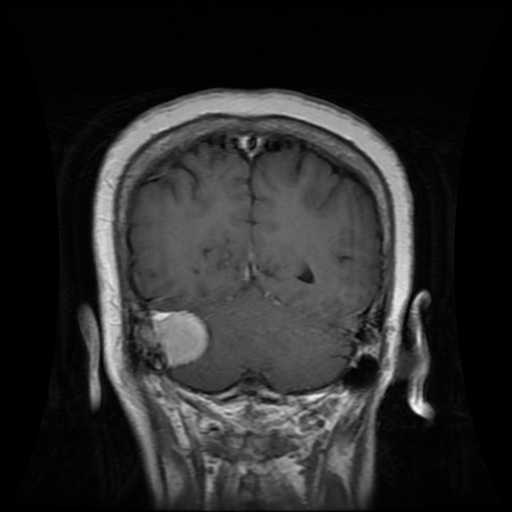meningioma: (152, 310, 209, 366)
